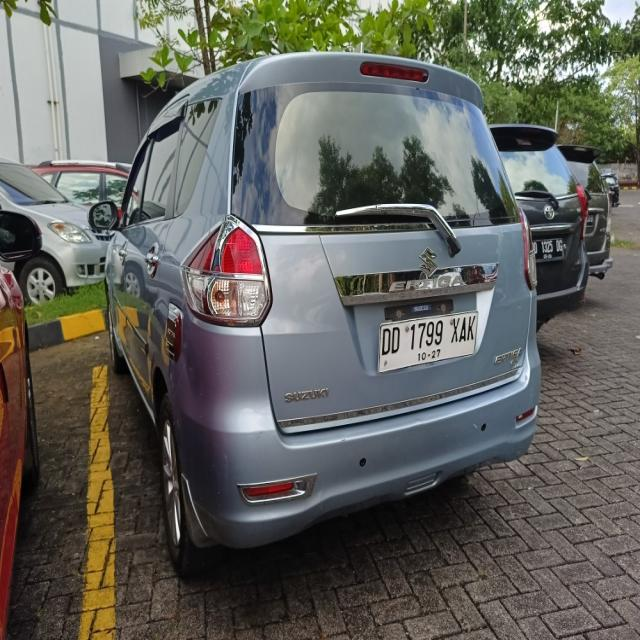plates: (376, 309, 479, 372)
